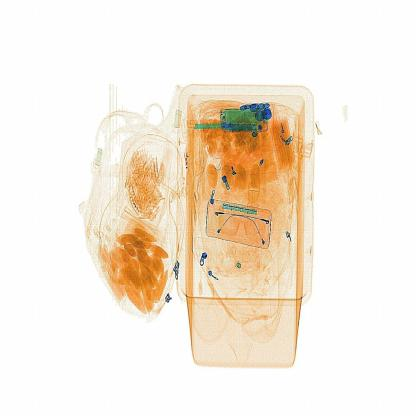pliers: (188, 115, 250, 141)
